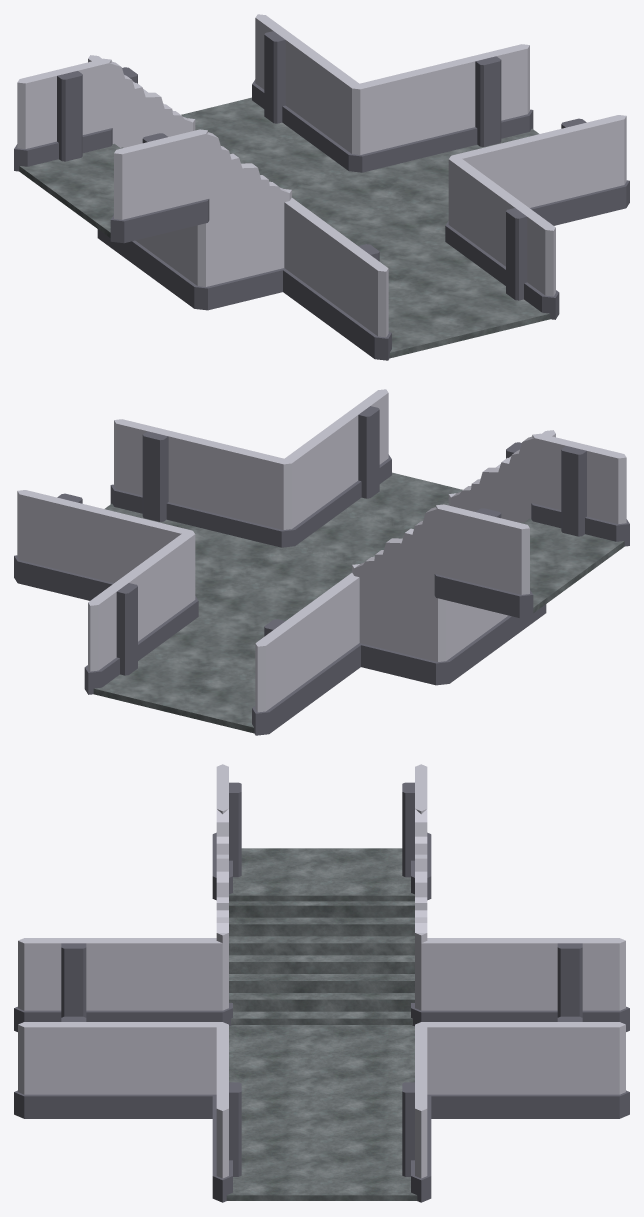
Rendered from intersection_4way_stair_02.fbx.
3 renders of one model, top to bottom at view 1: azimuth 30°, elevation 25°; view 2: azimuth 150°, elevation 25°; view 3: azimuth 270°, elevation 25°, orthographic. The views are drawn at different scales.
Visible parts, largest first — view 1: stairs_01_104, floor_01_100, wall_02_114, wall_02_117, wall_02_126, wall_02_125, floor_01_73, wall_01_123, floor_01_99, wall_02_116, wall_02_112, wall_01_110 (+6 smaller); view 2: stairs_01_104, floor_01_99, wall_02_117, wall_02_114, wall_02_125, wall_01_122, wall_02_126, floor_01_73, floor_01_100, wall_02_115, wall_02_111, wall_01_109 (+6 smaller); view 3: stairs_01_104, floor_01_73, floor_01_124, wall_02_111, wall_02_112, floor_04_106, wall_01_110, wall_01_109, wall_01_108, wall_02_115, wall_02_116, wall_01_107 (+6 smaller).
Boxes of the visible parts, x1,y1,x2,y2 form: stairs_01_104: (97,59,291,310); floor_01_100: (379,244,550,358); wall_02_114: (110,129,209,243); wall_02_117: (14,58,112,171); wall_02_126: (535,115,629,225); wall_02_125: (436,44,533,152); floor_01_73: (279,169,447,258); wall_01_123: (353,64,446,172); floor_01_99: (181,97,356,189); wall_02_116: (326,233,391,360); wall_02_112: (493,191,559,319); wall_01_110: (300,49,363,172); stairs_01_104: (352,434,546,685); floor_01_99: (93,617,264,733); wall_02_117: (434,504,533,618); wall_02_114: (531,433,629,546); wall_02_125: (14,490,111,600); wall_01_122: (197,439,295,547); wall_02_126: (110,419,206,527); floor_01_73: (196,544,364,632); floor_01_100: (287,472,462,564); wall_02_115: (252,608,317,735); wall_02_111: (84,566,150,694); wall_01_109: (280,424,343,547); stairs_01_104: (216,806,427,1027); floor_01_73: (229,1025,414,1111); floor_01_124: (226,1106,417,1200); wall_02_111: (517,1016,629,1118); wall_02_112: (14,1016,123,1118); floor_04_106: (229,848,414,901); wall_01_110: (415,1022,526,1118); wall_01_109: (117,1022,224,1118); wall_01_108: (117,938,232,1026); wall_02_115: (517,938,629,1031); wall_02_116: (14,938,124,1031); wall_01_107: (411,938,526,1021).
Size of the model in its own units: 62.05 by 20 by 62.05.
